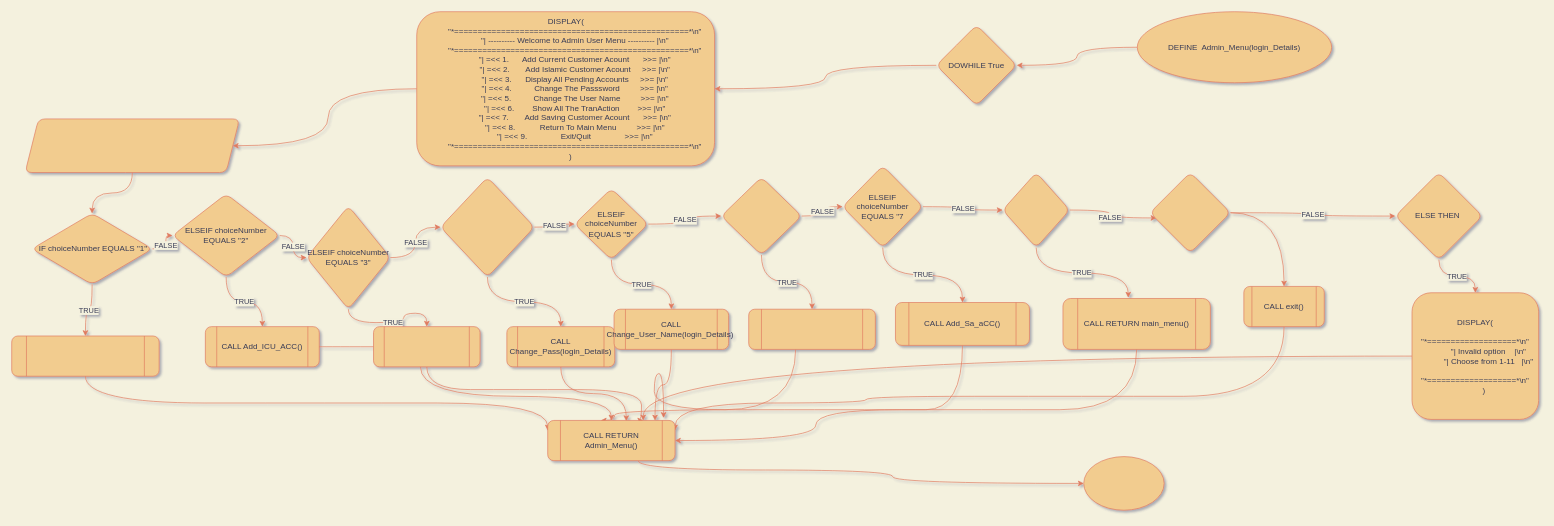
Some shapes in this 1554 by 526 pixel diagram are drawn without their labels. The shapes that lost their labels are listed below. From the top down, each one's box as (x1, y1, x2, y2) in pixels, then its label:
(24, 118, 240, 173): SET choiceNumber TO GET("=<< Select Your Choice Number From The Above Menu; ")
(440, 177, 534, 277): ELSEIF choiceNumber EQUALS "4"
(721, 177, 802, 255): ELSEIF choiceNumber EQUALS "6"
(1002, 172, 1070, 248): ELSEIF choiceNumber EQUALS "8"
(1149, 172, 1230, 253): ELSEIF choiceNumber EQUALS "9"
(373, 326, 480, 367): CALL Display_All_Pending()
(748, 309, 875, 349): CALL Show_All_Trans()
(11, 335, 159, 376): CALL Add_CCU_ACC()
(1083, 456, 1164, 510): ENDDEFINE
